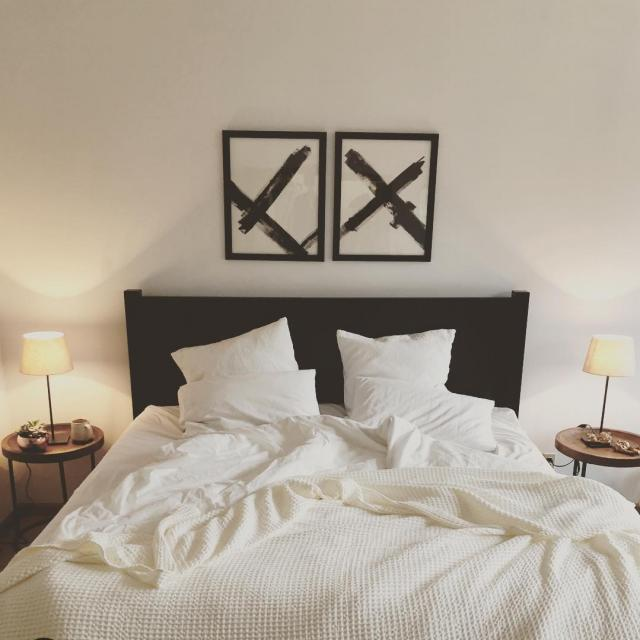bed: (95, 330, 587, 640)
